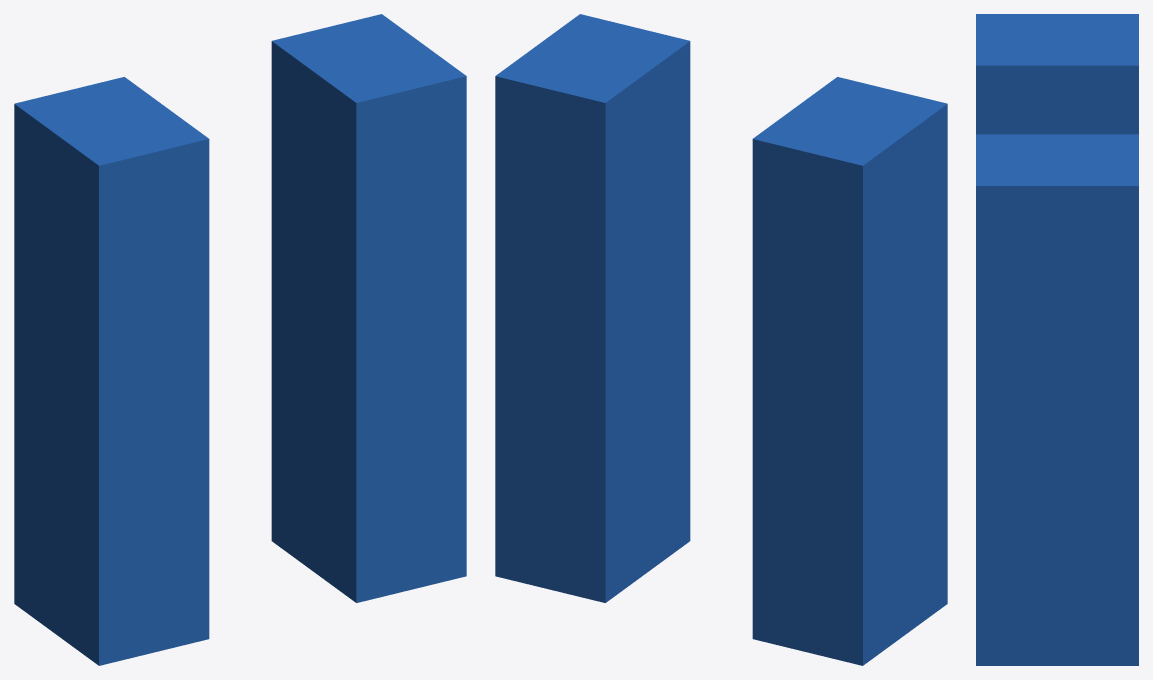
File: Pause.obj
The picture shows the model from 3 angles, left to right: view 1: azimuth 30°, elevation 25°; view 2: azimuth 150°, elevation 25°; view 3: azimuth 270°, elevation 25°; orthographic projection. The views are drawn at different scales.
Bounding box in the file's own units: 10 × 13 × 4.
